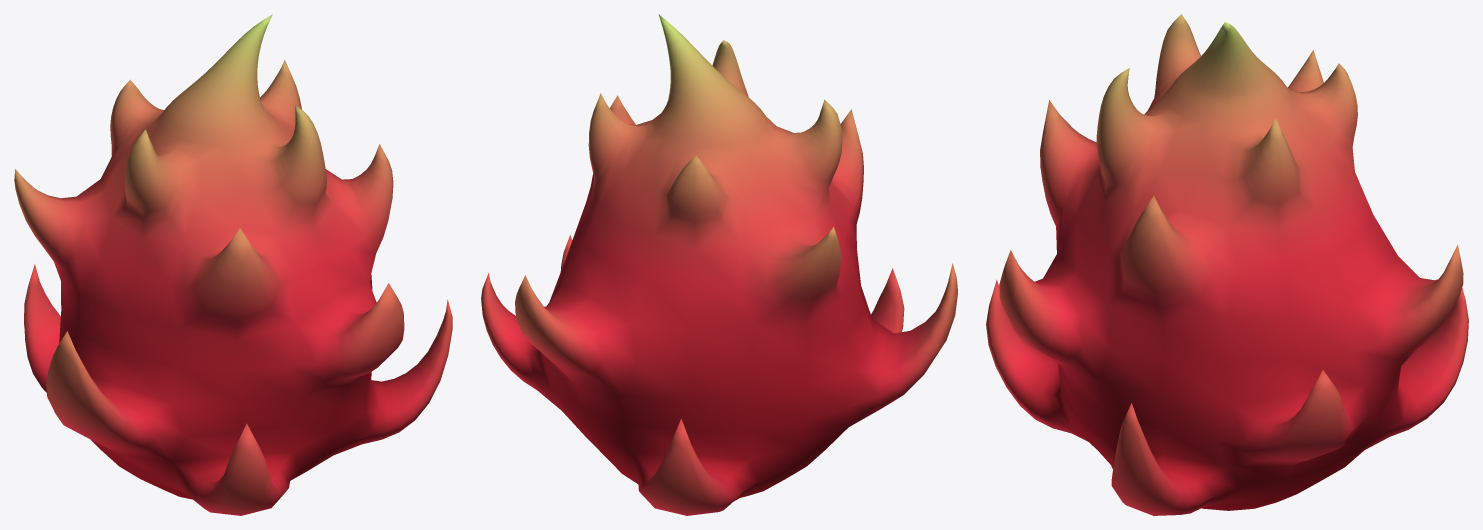
Rendered from DragonFruit.fbx.
3 renders of one model, left to right at view 1: azimuth 30°, elevation 25°; view 2: azimuth 150°, elevation 25°; view 3: azimuth 270°, elevation 25°, orthographic. The views are drawn at different scales.
Parts seen in each view (by area): view 1: DragonFruit; view 2: DragonFruit; view 3: DragonFruit.
Boxes of the visible parts, left/top/right/bottom form: DragonFruit: left=14, top=14, right=452, bottom=515; DragonFruit: left=481, top=14, right=957, bottom=515; DragonFruit: left=986, top=14, right=1468, bottom=515.
Size of the model in its own units: 2.6 by 2.88 by 2.53.
